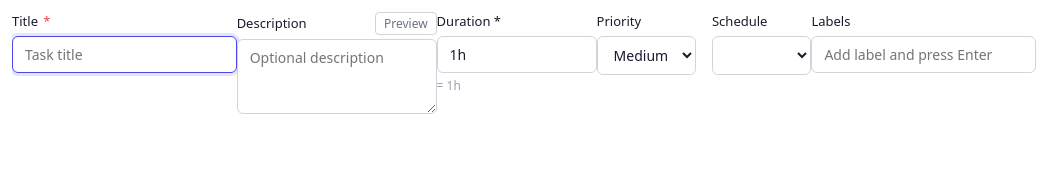
SharedFormFields — labels › clicking chip remove button removes that label
The image size is (1048, 172).
Type "removeme" into the field with placeholder "Add label and press Enter".
click(924, 54); type("removeme")  # box [811, 36, 1036, 72]
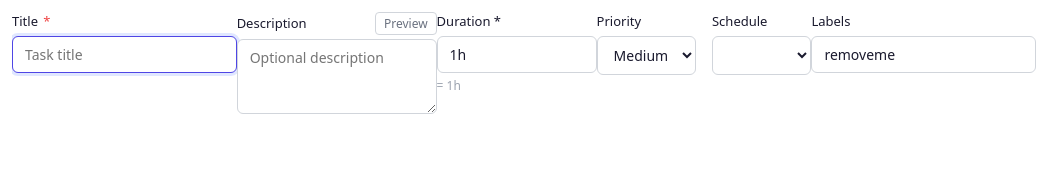
Press Enter in the field with placeholder "Add label and press Enter", box [811, 36, 1036, 72]
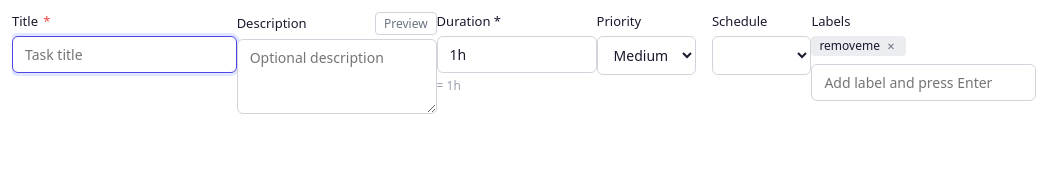
Click the button named "remove removeme".
click(891, 46)  # box [884, 39, 898, 53]
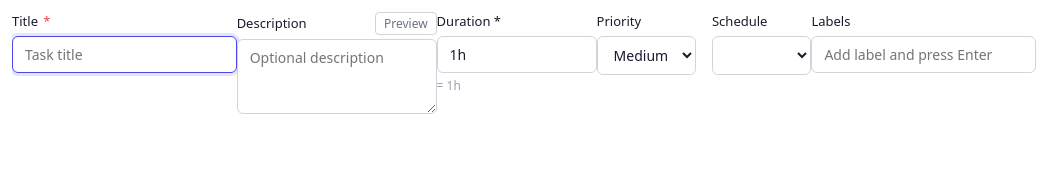
Expected: the text "removeme" is gone
